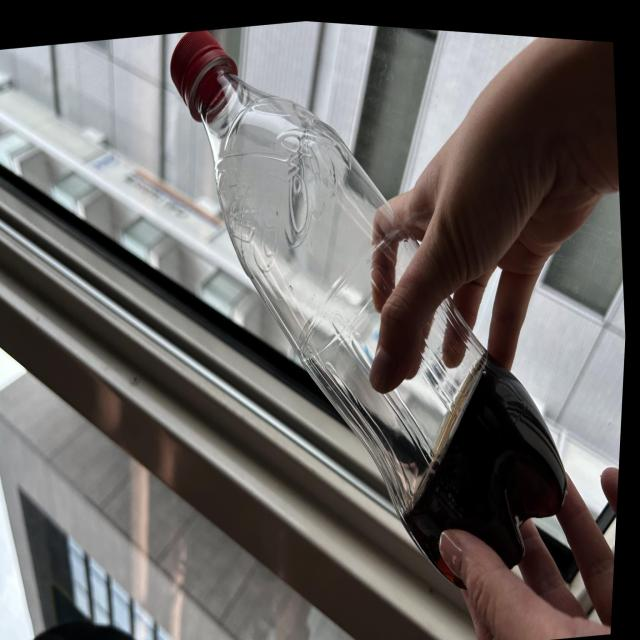low: (172, 32, 567, 582)
